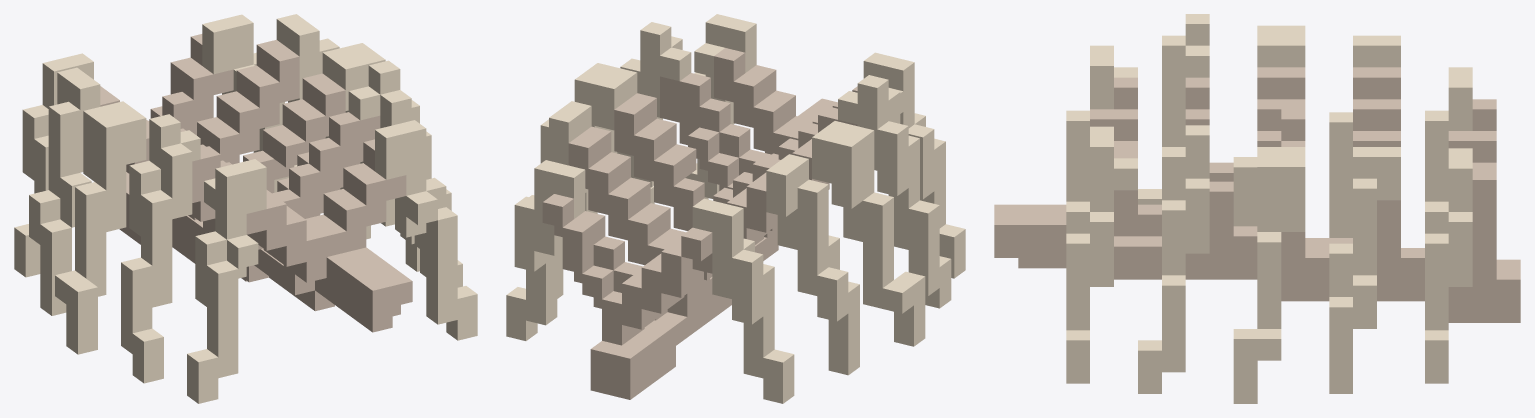
The model's file is weathered_ribcage.glb.
3 renders of one model, left to right at view 1: azimuth 30°, elevation 25°; view 2: azimuth 150°, elevation 25°; view 3: azimuth 270°, elevation 25°, orthographic. The views are drawn at different scales.
Size of the model in its own units: 0.75 by 0.4583 by 0.9167.
